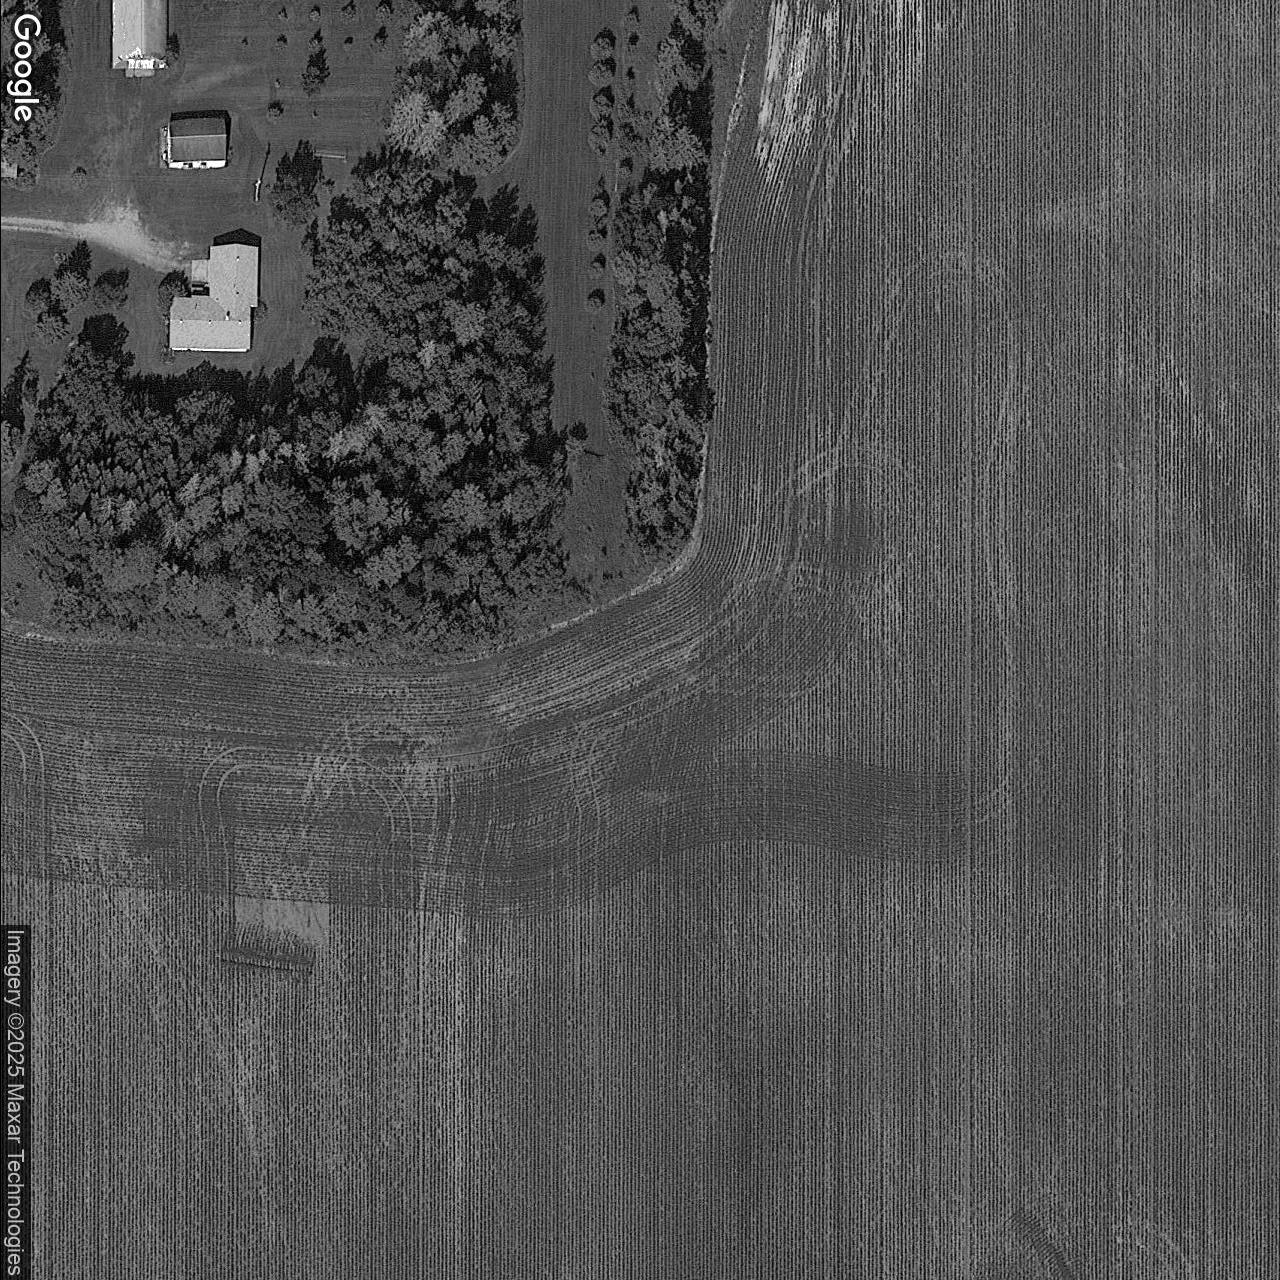Garage: (166, 118, 225, 168)
House: (169, 243, 258, 352), (111, 0, 168, 69)
